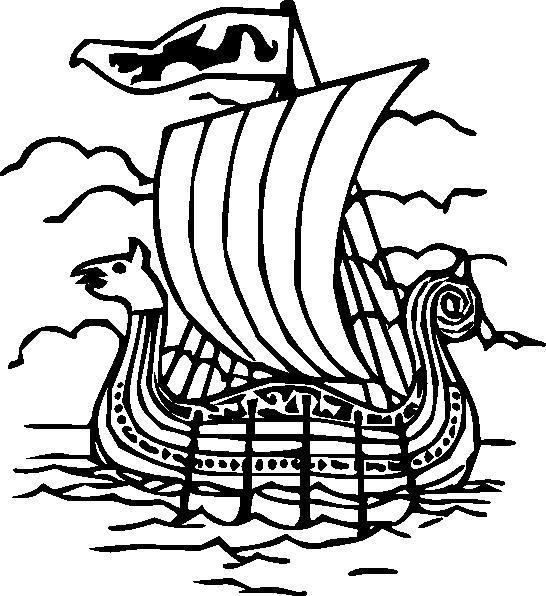boat: (62, 109, 512, 516)
